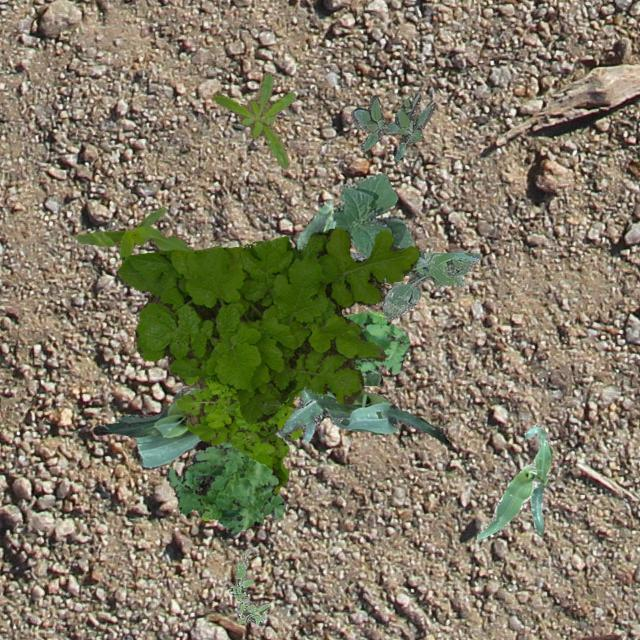crop: (279, 384, 447, 442), (91, 386, 201, 468), (476, 422, 552, 540), (76, 206, 220, 260), (332, 172, 414, 258), (294, 200, 334, 252), (362, 369, 382, 385)
weed: (116, 226, 418, 424), (173, 374, 301, 494), (164, 442, 286, 532), (348, 252, 479, 318), (212, 70, 294, 168), (350, 91, 434, 160), (344, 309, 408, 382), (228, 548, 268, 624)
